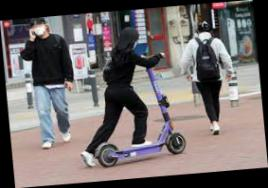nonhelmet: (68, 23, 189, 170)
